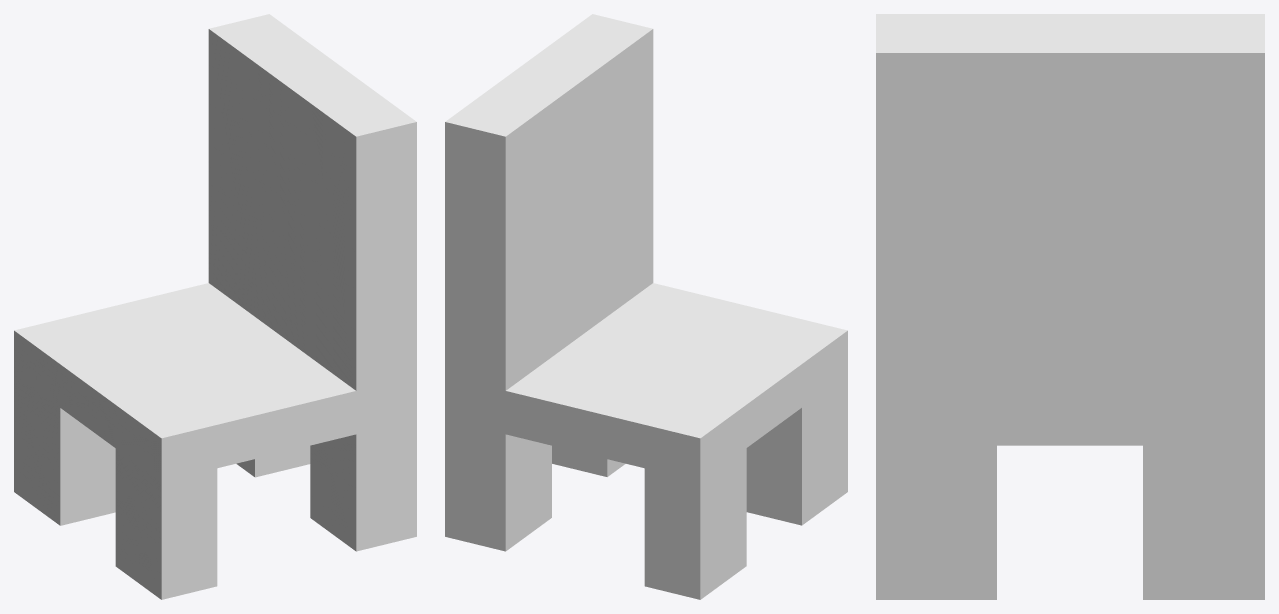
The model's file is Silla.fbx.
The picture shows the model from 3 angles, left to right: view 1: azimuth 30°, elevation 25°; view 2: azimuth 150°, elevation 25°; view 3: azimuth 270°, elevation 25°; orthographic projection. The views are drawn at different scales.
Visible parts, largest first — view 1: Silla de mierda.001; view 2: Silla de mierda.001; view 3: Silla de mierda.001.
Boxes of the visible parts, x1=… form: Silla de mierda.001: x1=14, y1=14, x2=416, y2=599; Silla de mierda.001: x1=445, y1=14, x2=847, y2=599; Silla de mierda.001: x1=876, y1=14, x2=1264, y2=599.
Bounding box in the file's own units: 200 × 311 × 200.
